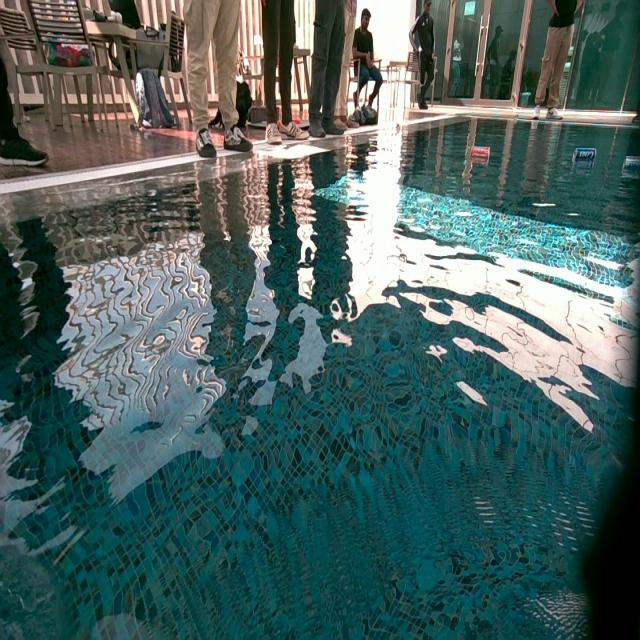Cans: (572, 147, 595, 163), (473, 146, 491, 166), (624, 158, 640, 172)
